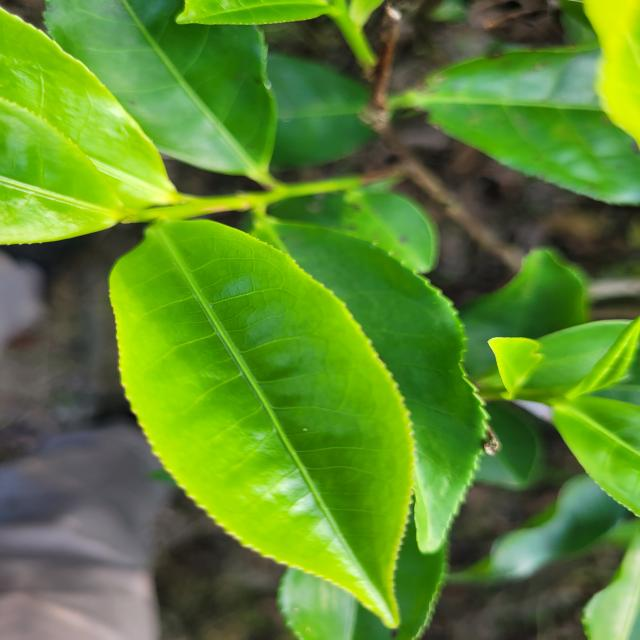Category B(2-4 days): (49, 186, 479, 640)
